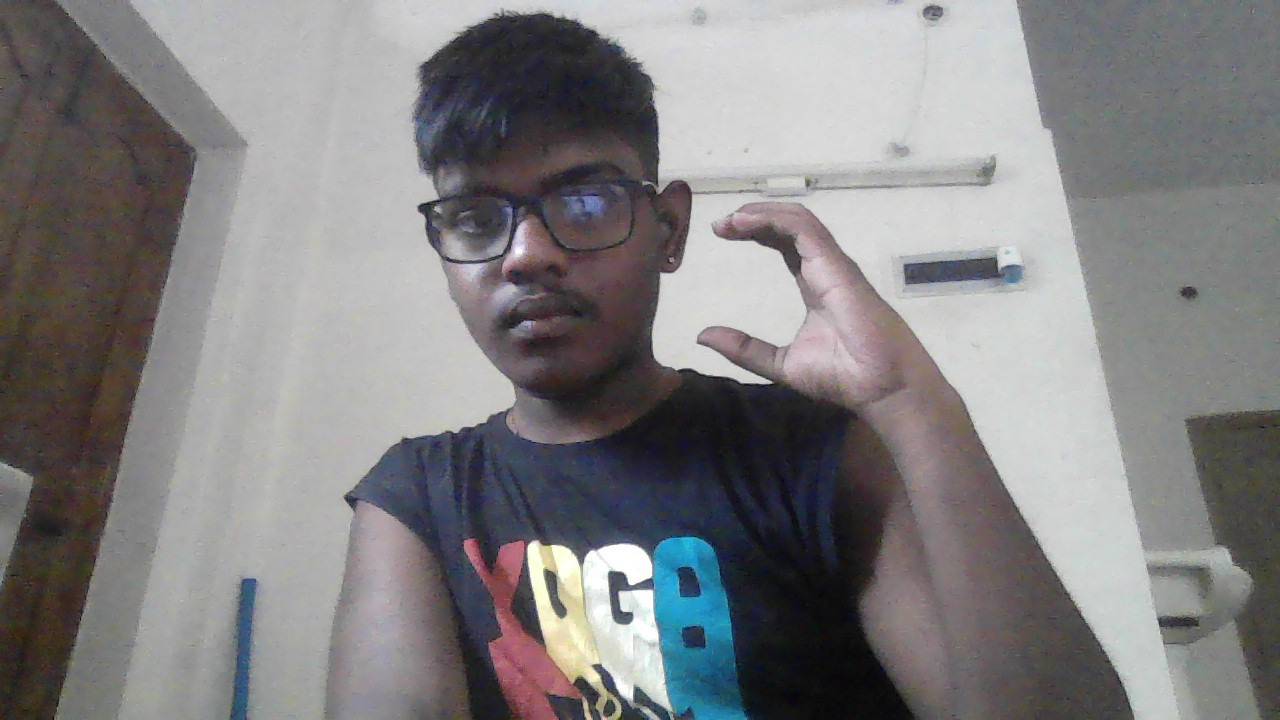C: (696, 200, 904, 404)
